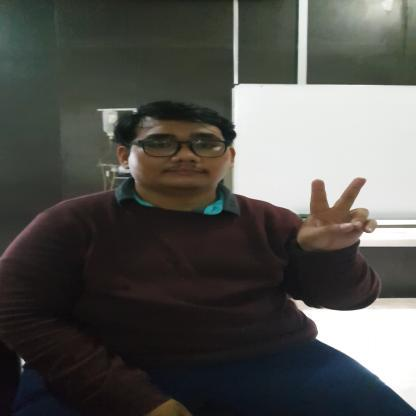V: (294, 176, 380, 251)
